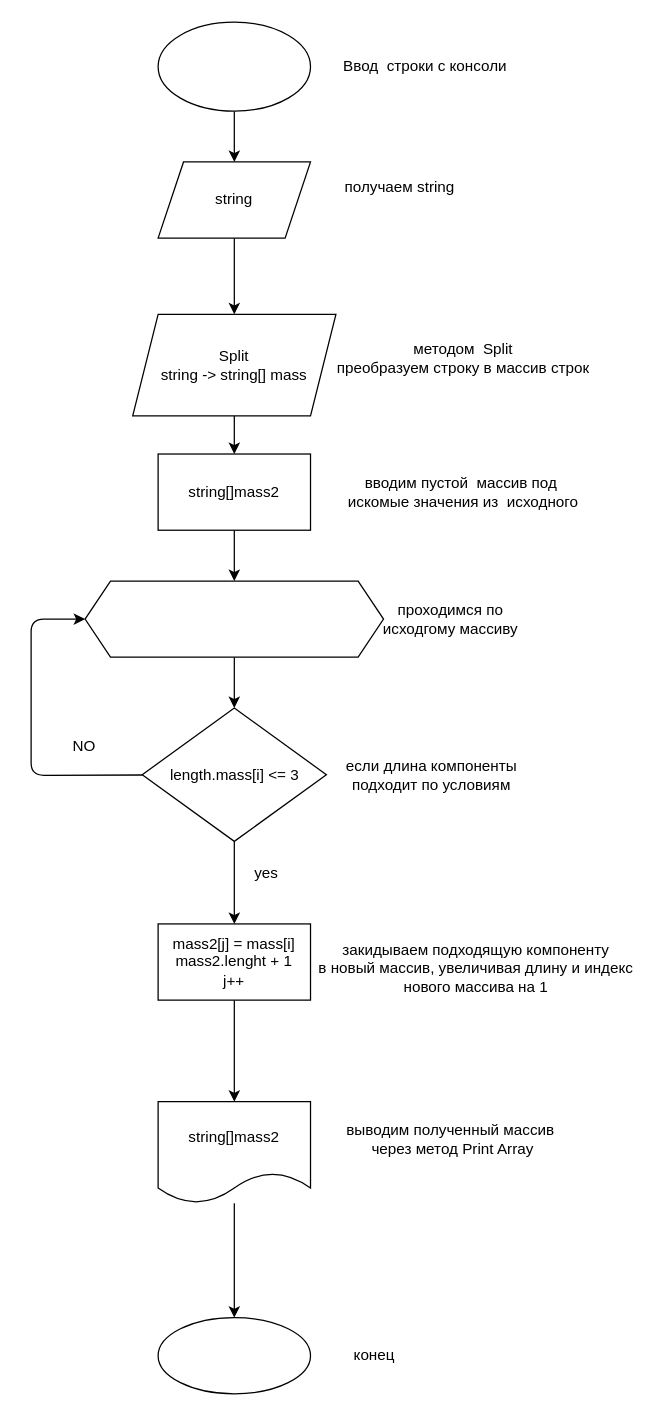
Some shapes in this 655 by 1416 pixel diagram are drawn without their labels. The shapes that lost their labels are listed below. From the top down, each one's centre as x and y in pixels, then its label:
(x=234, y=66): Start
(x=234, y=618): i = 0, i < length, i++
(x=234, y=1355): End
